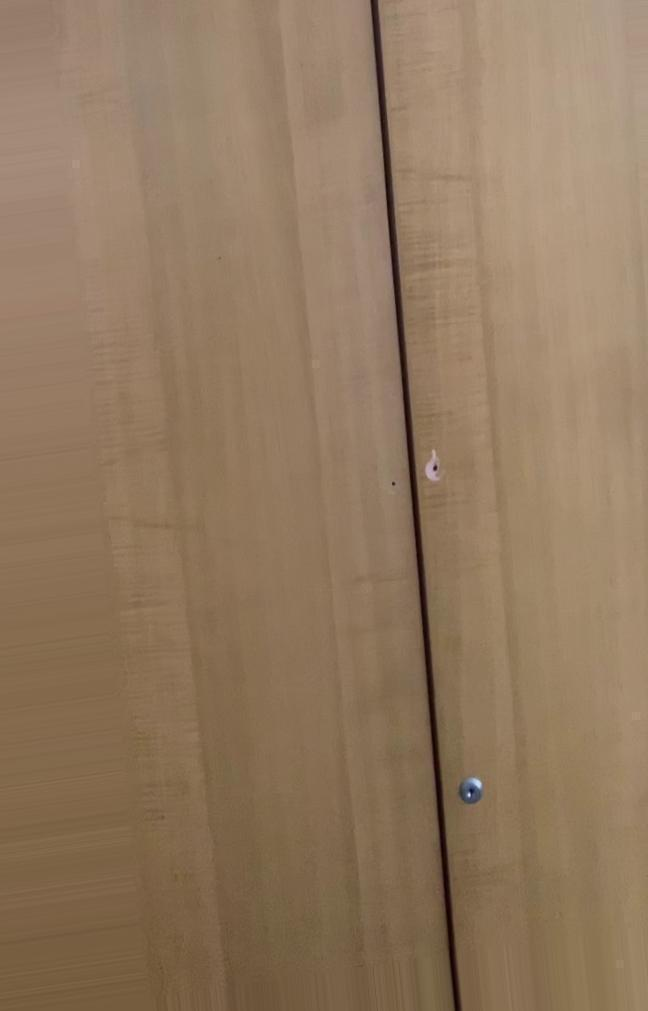Armario: (4, 4, 642, 1004)
